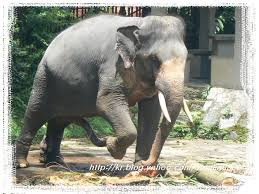Elephant: (12, 15, 203, 173)
